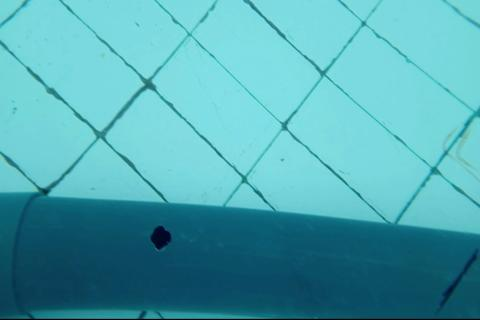kebocoran: (149, 223, 172, 254)
keretakan: (434, 245, 480, 320)
